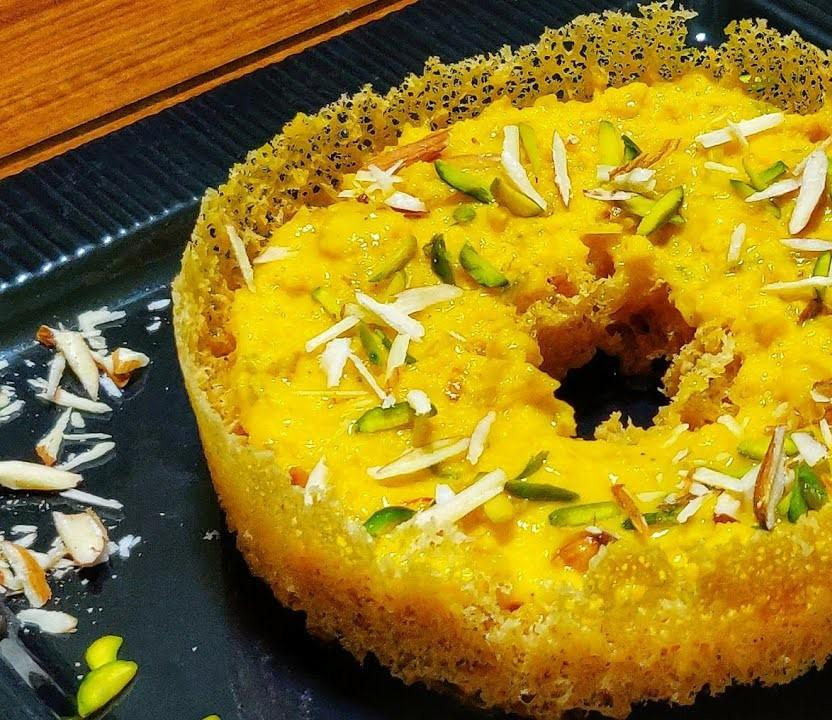Ghevar: (169, 0, 832, 720)
